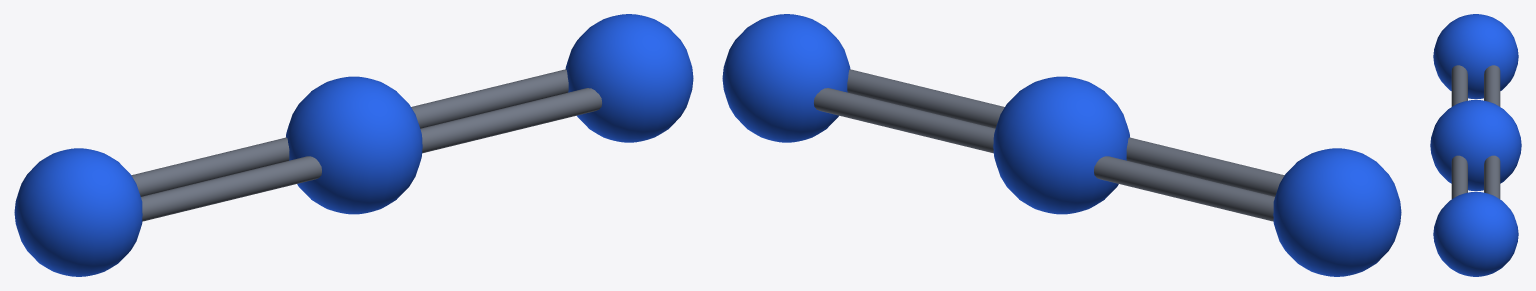
3 views of the same model, side by side, from view 1: azimuth 30°, elevation 25°; view 2: azimuth 150°, elevation 25°; view 3: azimuth 270°, elevation 25° (orthographic). The views are drawn at different scales.
Parts seen in each view (by area): view 1: C1, O2, O1, object 7, object 4, object 6, object 5; view 2: C1, O2, O1, object 6, object 5, object 7, object 4; view 3: O1, C1, O2, object 4, object 5, object 6, object 7.
Boxes of the visible parts, x1,y1,x2,y2 form: C1: (286,76,422,214); O2: (14,148,142,276); O1: (565,14,693,142); object 7: (141,156,321,221); object 4: (420,88,601,153); object 6: (131,137,289,196); object 5: (411,69,568,128); C1: (993,76,1129,214); O2: (1273,148,1401,276); O1: (722,14,850,142); object 6: (1094,156,1274,221); object 5: (814,88,995,153); object 7: (1126,137,1284,196); object 4: (847,69,1004,128); O1: (1433,191,1518,276); C1: (1430,100,1521,190); O2: (1433,14,1518,99); object 4: (1451,155,1467,198); object 5: (1484,155,1500,198); object 6: (1484,65,1500,106); object 7: (1451,65,1467,106).
Bounding box in the file's own units: 0.498 × 0.09 × 0.09.
